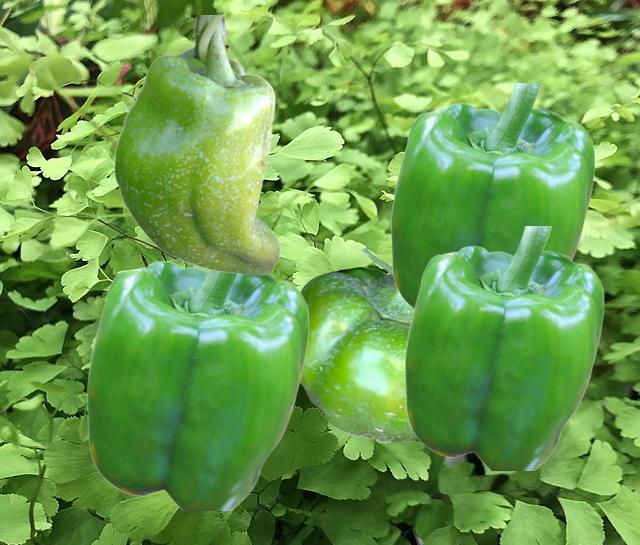bell_pepper: (86, 260, 308, 509), (404, 226, 603, 469), (390, 83, 594, 308), (113, 15, 279, 274), (300, 246, 416, 441)
